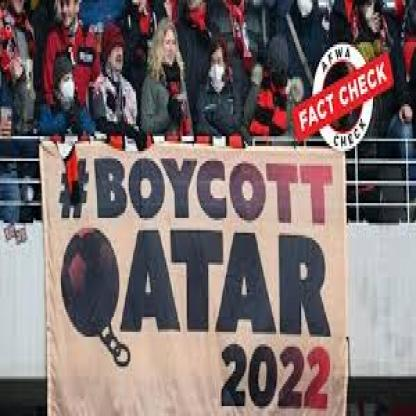BANNER: (37, 136, 349, 416)
